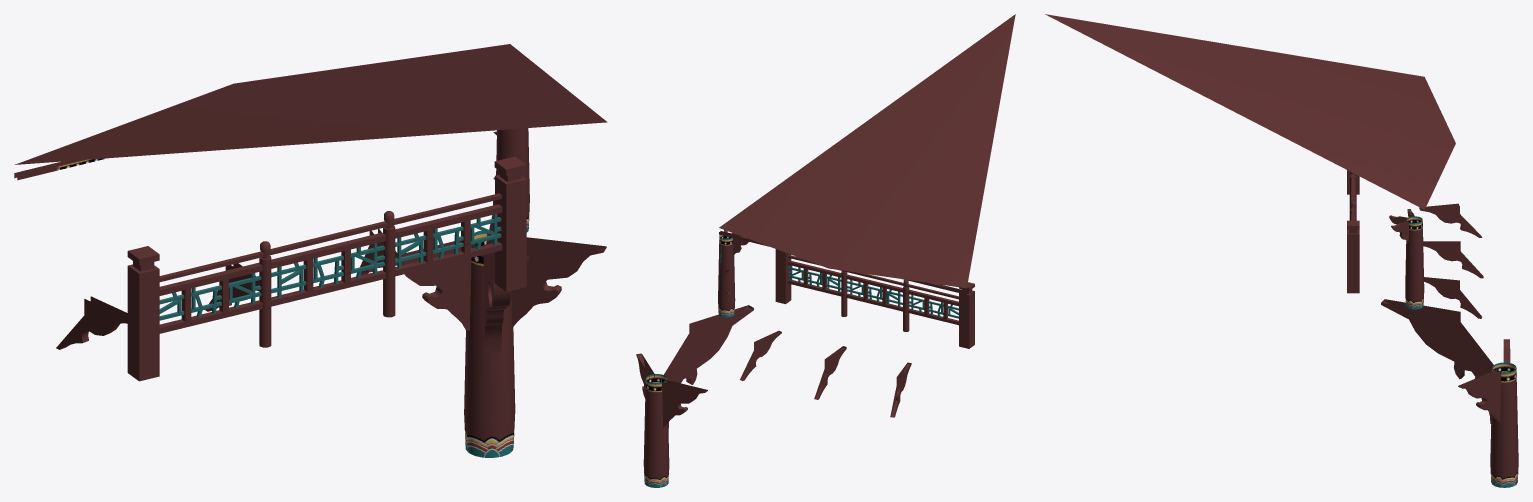
The model's file is living_room_2nddoor_001.fbx.
3 views of the same model, side by side, from view 1: azimuth 30°, elevation 25°; view 2: azimuth 150°, elevation 25°; view 3: azimuth 270°, elevation 25° (orthographic). The views are drawn at different scales.
Visible parts, largest first — view 1: living_room_2nddoor_001; view 2: living_room_2nddoor_001; view 3: living_room_2nddoor_001.
Part boxes in pixels (box(x1,y1,x2,y2)): living_room_2nddoor_001: box(14, 44, 607, 457); living_room_2nddoor_001: box(636, 14, 1015, 487); living_room_2nddoor_001: box(1045, 14, 1518, 487).
Bounding box in the file's own units: 1257 × 1351 × 1498.
